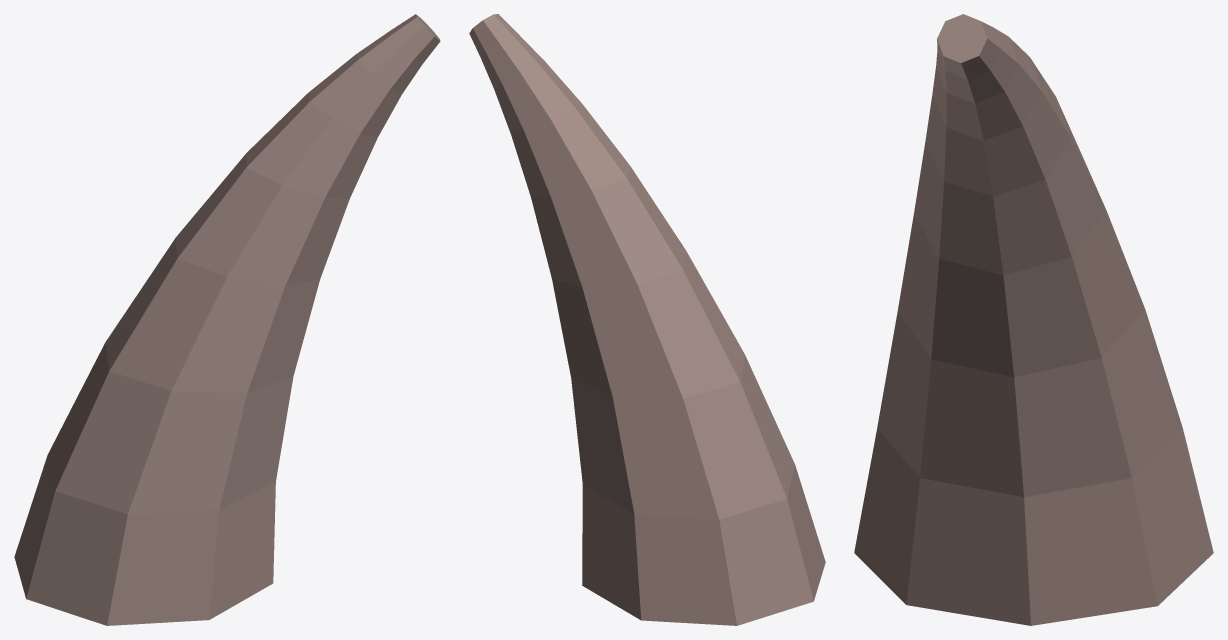
Rendered from Rock_19.fbx.
The picture shows the model from 3 angles, left to right: view 1: azimuth 30°, elevation 25°; view 2: azimuth 150°, elevation 25°; view 3: azimuth 270°, elevation 25°; orthographic projection. The views are drawn at different scales.
Visible parts, largest first — view 1: Rock_19; view 2: Rock_19; view 3: Rock_19.
Boxes of the visible parts, x1,y1,x2,y2 form: Rock_19: (14, 14, 440, 625); Rock_19: (469, 14, 825, 625); Rock_19: (854, 14, 1213, 625).
Bounding box in the file's own units: 4.46 × 5.67 × 2.62.
